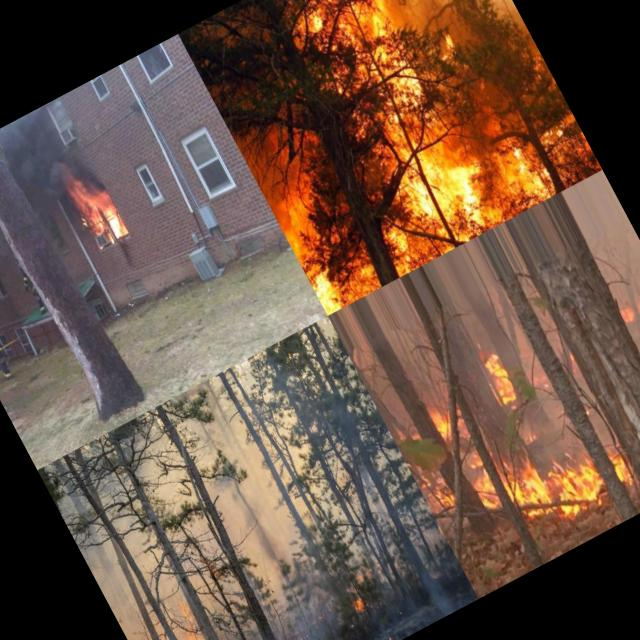fire: (382, 102, 520, 255), (494, 422, 612, 538), (268, 188, 357, 315), (480, 119, 558, 212), (56, 164, 134, 254), (366, 186, 442, 275), (332, 0, 437, 50), (470, 343, 530, 416), (157, 589, 222, 640), (341, 586, 372, 624), (271, 625, 310, 640)
smoke: (320, 412, 427, 574), (75, 521, 207, 640), (399, 0, 542, 89), (0, 103, 84, 206), (402, 546, 478, 624), (234, 616, 290, 640)
